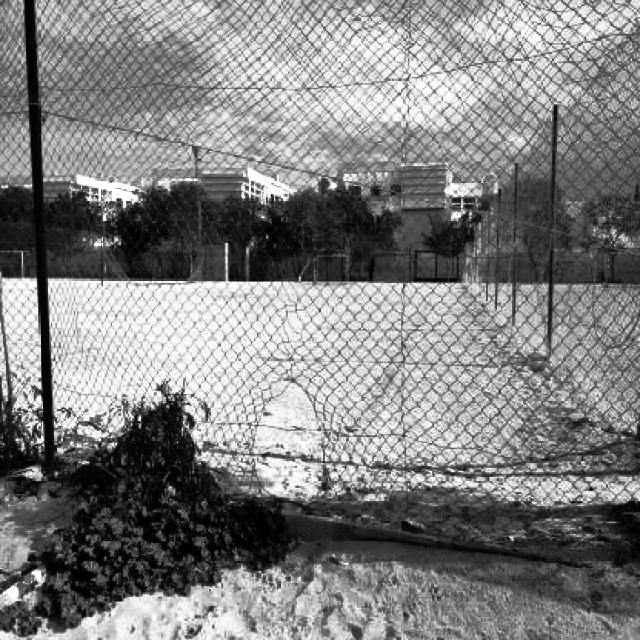anomaly-fence: (232, 352, 313, 547)
